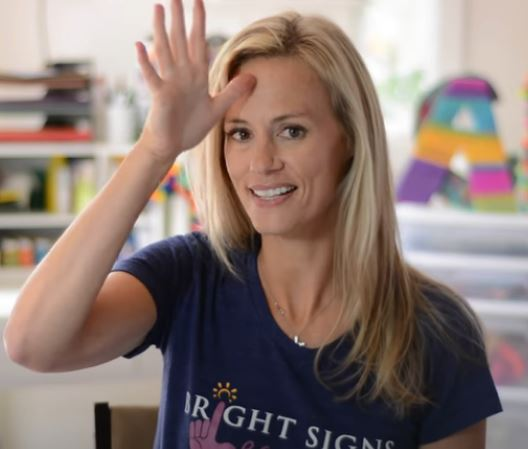dad: (133, 2, 343, 163)
